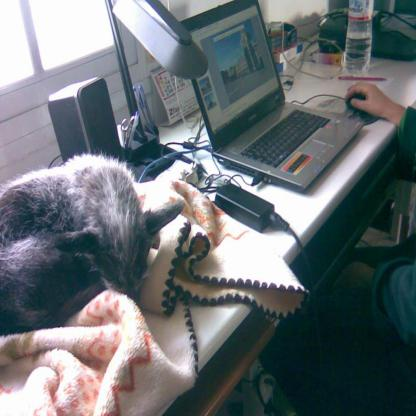board: (180, 0, 363, 193), (345, 0, 372, 75)
